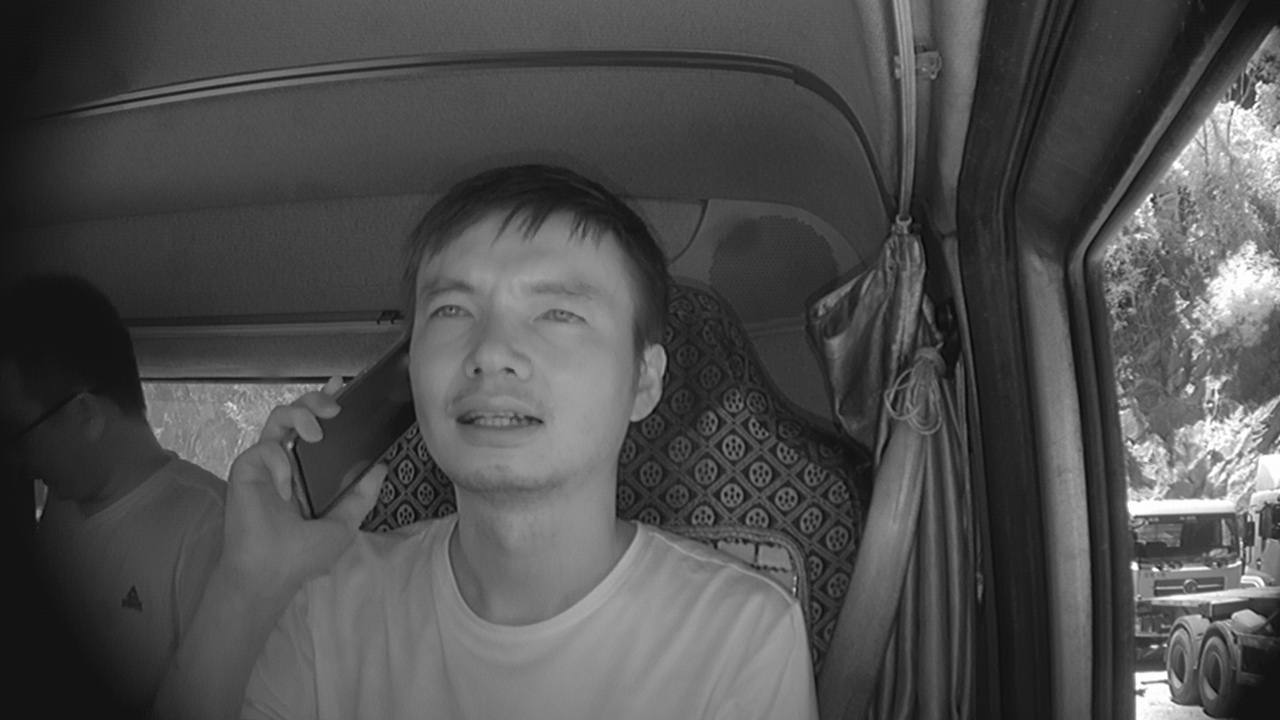hand: (224, 373, 389, 584)
